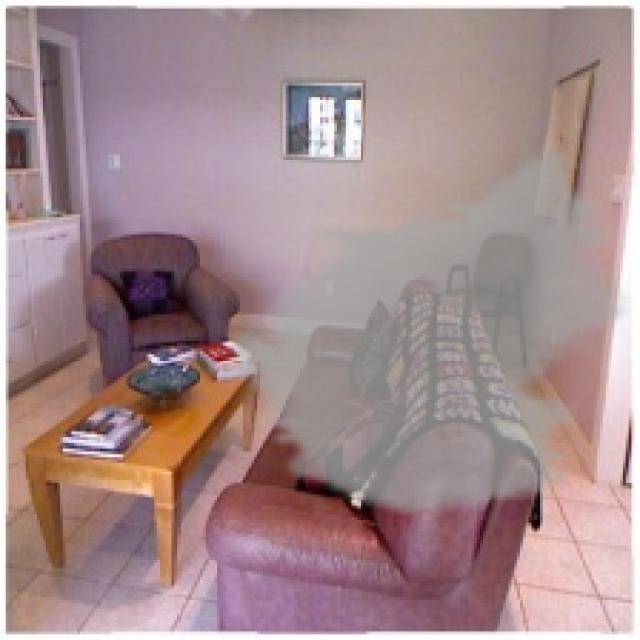smoke: (214, 143, 637, 523)
